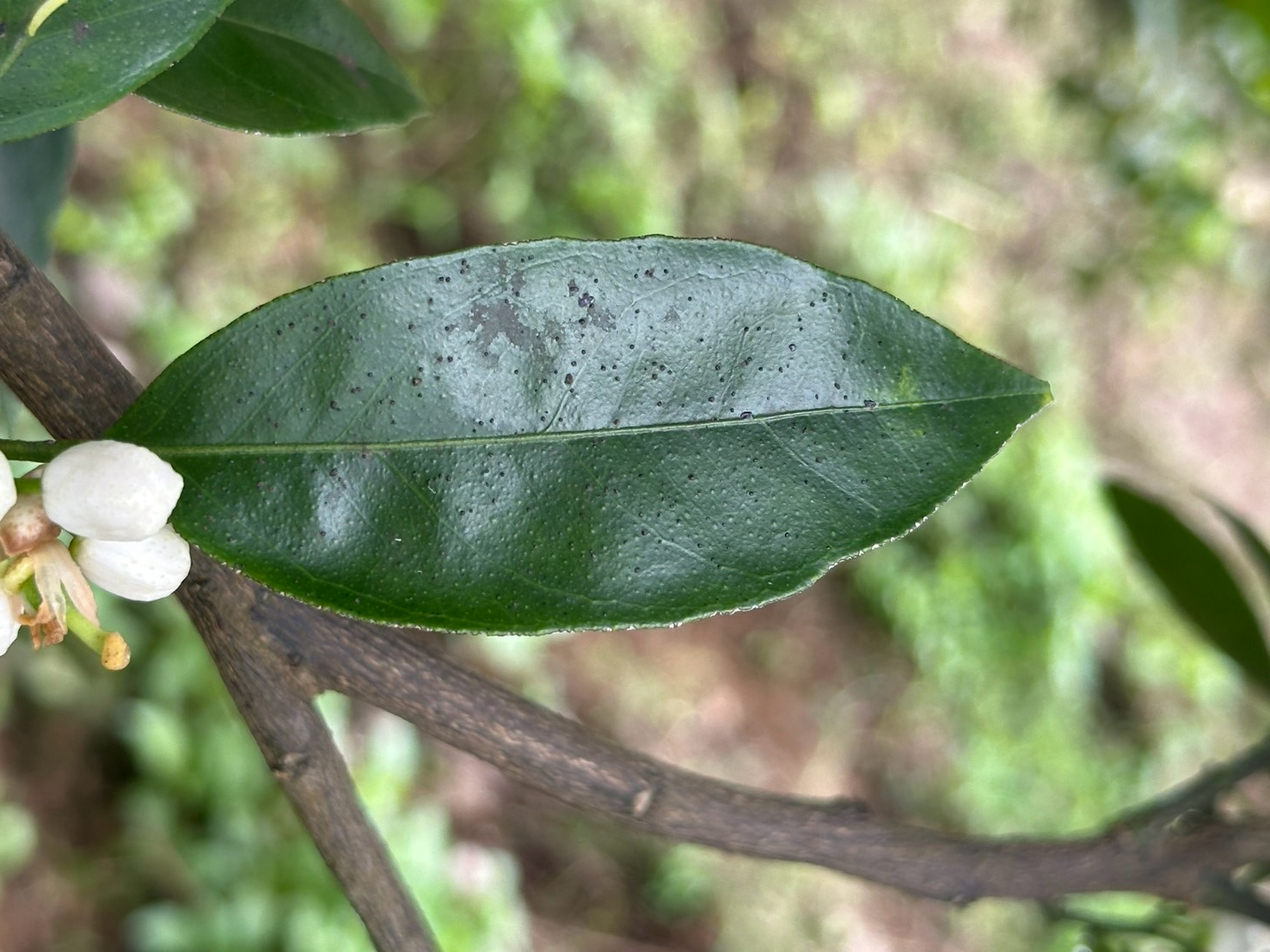Black_Spot: (108, 238, 1047, 632)
